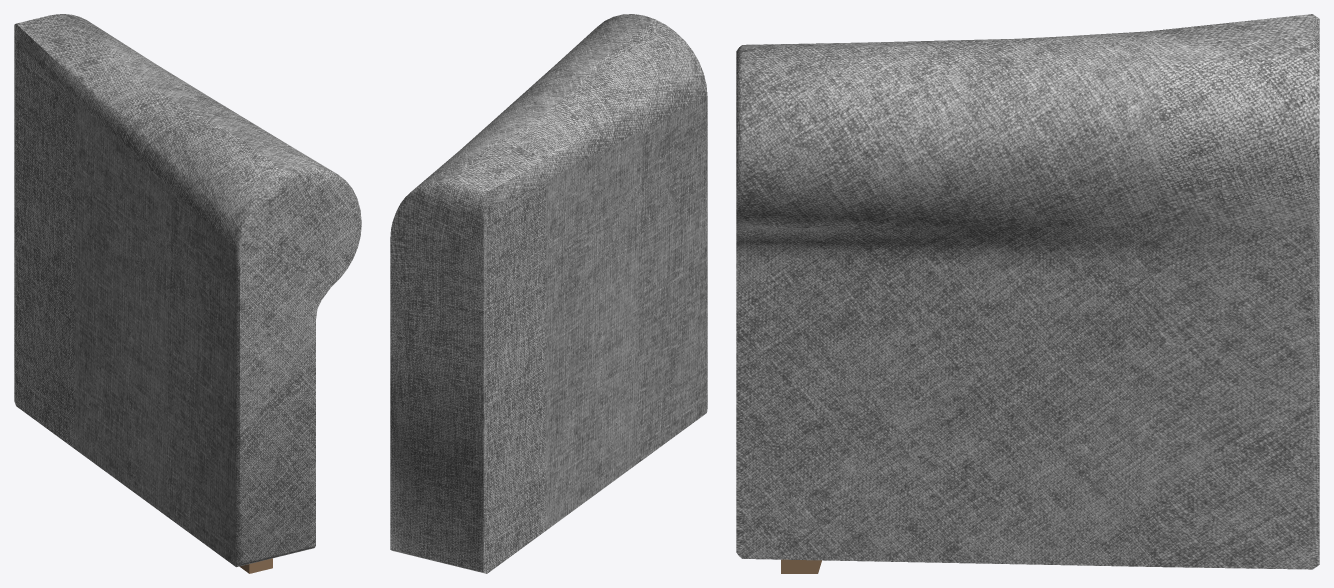
Rendered from armrestR.gltf.
3 renders of one model, left to right at view 1: azimuth 30°, elevation 25°; view 2: azimuth 150°, elevation 25°; view 3: azimuth 270°, elevation 25°, orthographic. The views are drawn at different scales.
Parts seen in each view (by area): view 1: ArmrestR; view 2: ArmrestR; view 3: ArmrestR.
Boxes of the visible parts, bbox=[...] form: ArmrestR: bbox=[14, 14, 361, 567]; ArmrestR: bbox=[390, 14, 707, 573]; ArmrestR: bbox=[736, 14, 1319, 569].
Size of the model in its own units: 20.32 by 63.36 by 63.47.
Materials: 2 (1 with a texture image).
